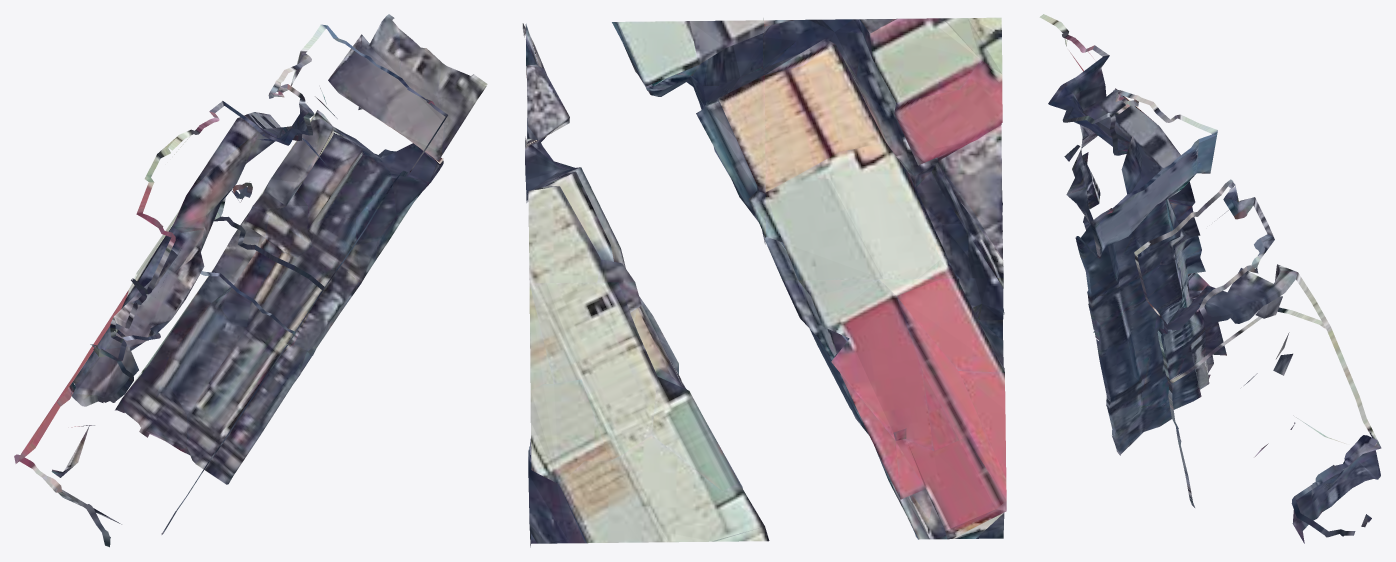
3 views of the same model, side by side, from view 1: azimuth 30°, elevation 25°; view 2: azimuth 150°, elevation 25°; view 3: azimuth 270°, elevation 25° (orthographic). The views are drawn at different scales.
Size of the model in its own units: 44.19 by 40.42 by 29.48.
2 materials, 2 textured.
